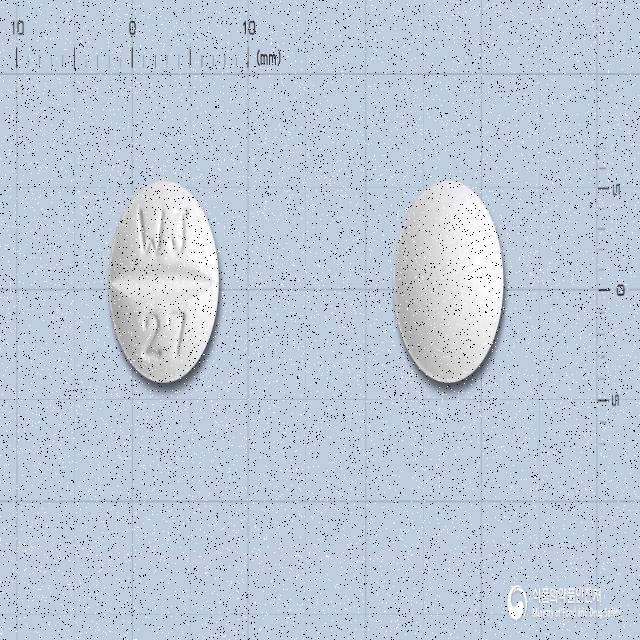Megarokshin: (110, 180, 220, 387)
